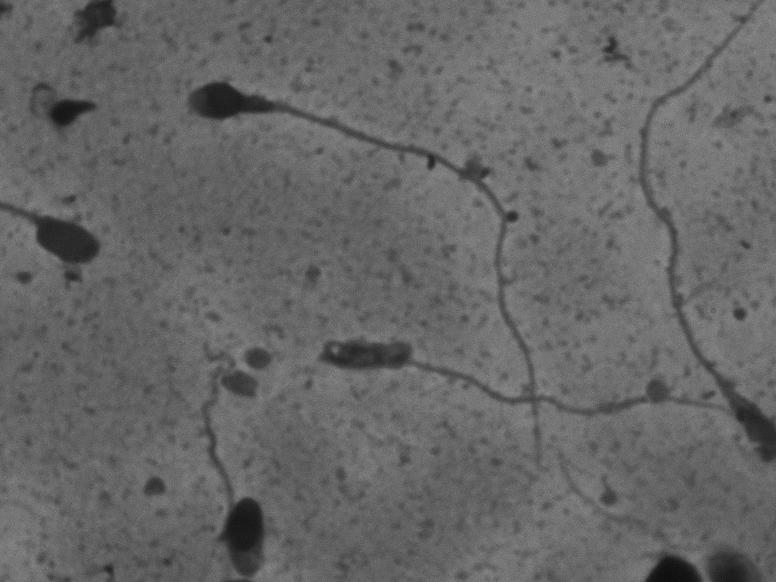Abnormal: (165, 68, 552, 470), (312, 305, 689, 440), (167, 331, 287, 575)
